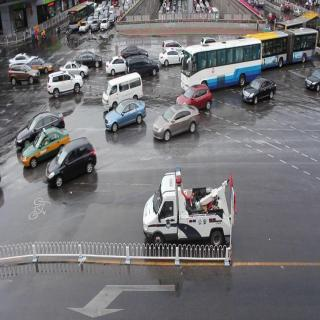BigCar: (179, 40, 261, 89), (242, 27, 317, 68), (68, 1, 95, 34)
Car: (144, 169, 246, 263), (43, 136, 98, 190), (15, 124, 73, 171), (12, 110, 64, 154), (147, 100, 199, 144), (102, 95, 147, 136), (102, 71, 146, 108), (175, 78, 213, 118), (242, 70, 276, 110), (44, 70, 82, 98), (10, 59, 40, 88), (125, 52, 159, 77), (155, 43, 181, 74), (78, 18, 88, 41), (89, 16, 99, 36), (99, 14, 109, 30)
